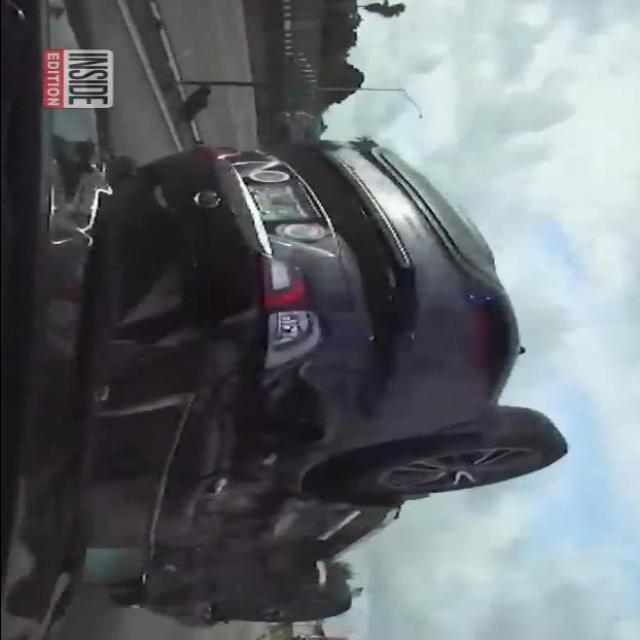accident: (85, 132, 571, 640)
